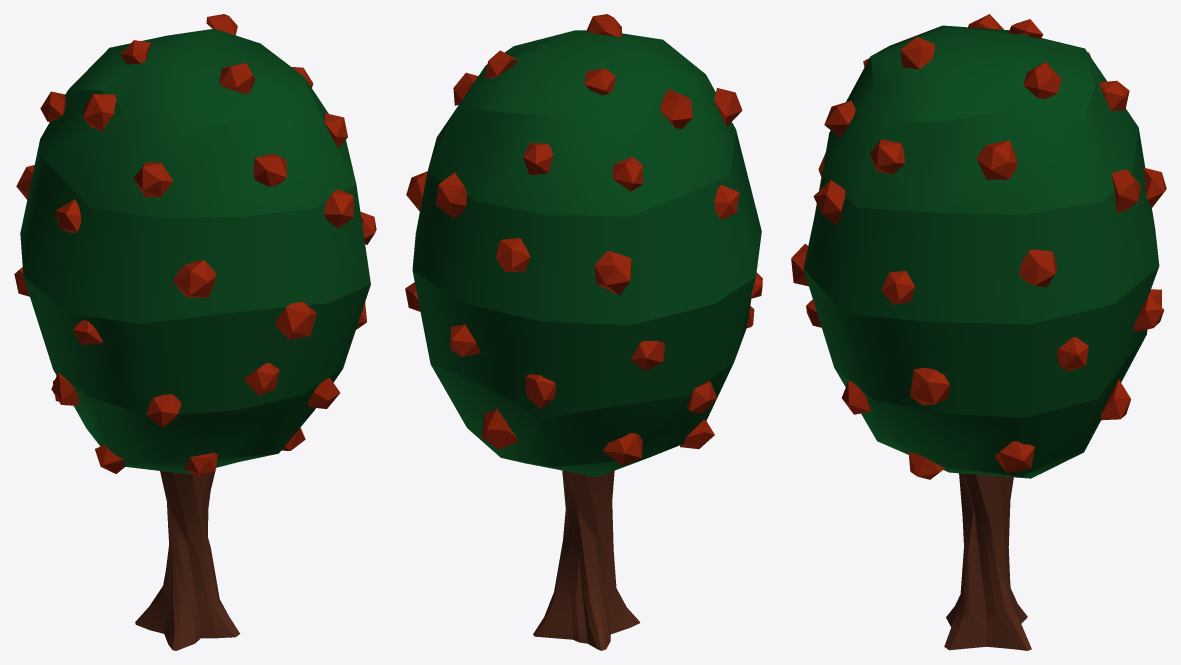
The model's file is Tree_2_Medium_WF.fbx.
The picture shows the model from 3 angles, left to right: view 1: azimuth 30°, elevation 25°; view 2: azimuth 150°, elevation 25°; view 3: azimuth 270°, elevation 25°; orthographic projection. The views are drawn at different scales.
Visible parts, largest first — view 1: Tree_2_Medium_WF; view 2: Tree_2_Medium_WF; view 3: Tree_2_Medium_WF.
Boxes of the visible parts, x1,y1,x2,y2 form: Tree_2_Medium_WF: (14,14,376,650); Tree_2_Medium_WF: (405,14,762,650); Tree_2_Medium_WF: (791,14,1166,650).
Size of the model in its own units: 102 by 190 by 108.
